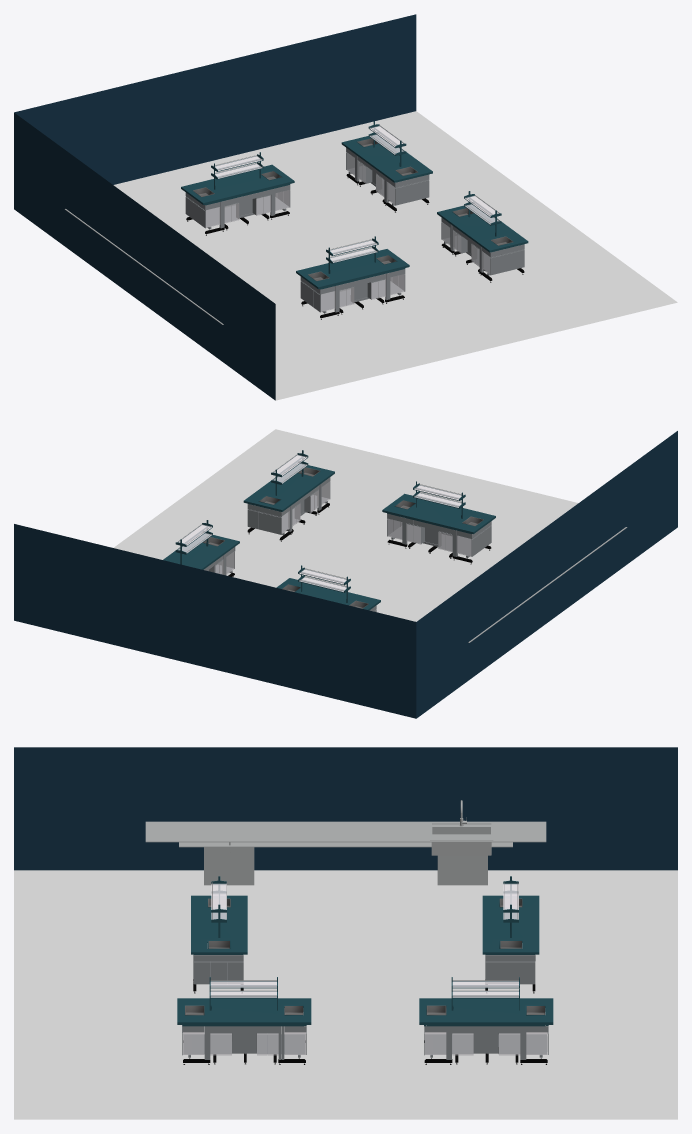
File: laboratory.fbx
3 views of the same model, one above another, from view 1: azimuth 30°, elevation 25°; view 2: azimuth 150°, elevation 25°; view 3: azimuth 270°, elevation 25° (orthographic). The views are drawn at different scales.
Visible parts, largest first — view 1: Cube, table_full_27, table_full_27.001, table_full_27.002, table_full_27.003; view 2: Cube, table_full_27, table_full_27.002, table_full_27.003, table_full_27.001; view 3: Cube, Office Table, table_full_27.003, table_full_27.002, table_full_27.001, table_full_27, Simple Kitchen Sink.
Part boxes in pixels (x1,y1,x2,y2): Cube: (14, 14, 677, 400); table_full_27: (296, 236, 409, 319); table_full_27.001: (181, 152, 294, 235); table_full_27.002: (437, 191, 528, 282); table_full_27.003: (341, 121, 432, 212); Cube: (14, 429, 677, 718); table_full_27: (382, 481, 495, 564); table_full_27.002: (243, 450, 334, 541); table_full_27.003: (163, 520, 239, 576); table_full_27.001: (276, 565, 380, 611); Cube: (14, 747, 677, 1119); Office Table: (145, 821, 546, 885); table_full_27.003: (419, 977, 553, 1064); table_full_27.002: (177, 977, 311, 1064); table_full_27.001: (482, 876, 539, 993); table_full_27: (191, 876, 247, 993); Simple Kitchen Sink: (430, 823, 493, 855).
Size of the model in its own units: 3738 by 879 by 4197.
